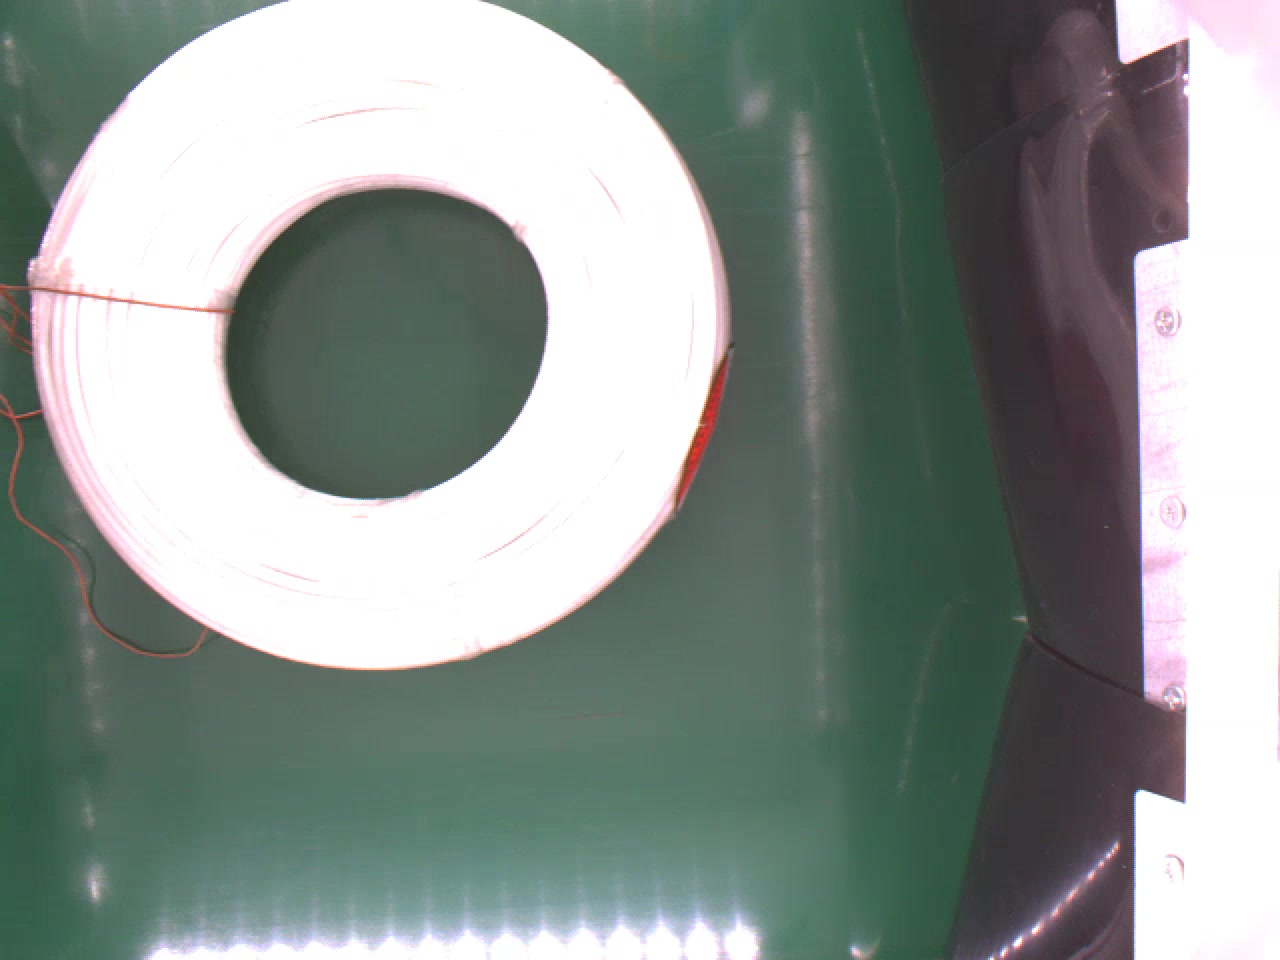white: (25, 0, 735, 662)
